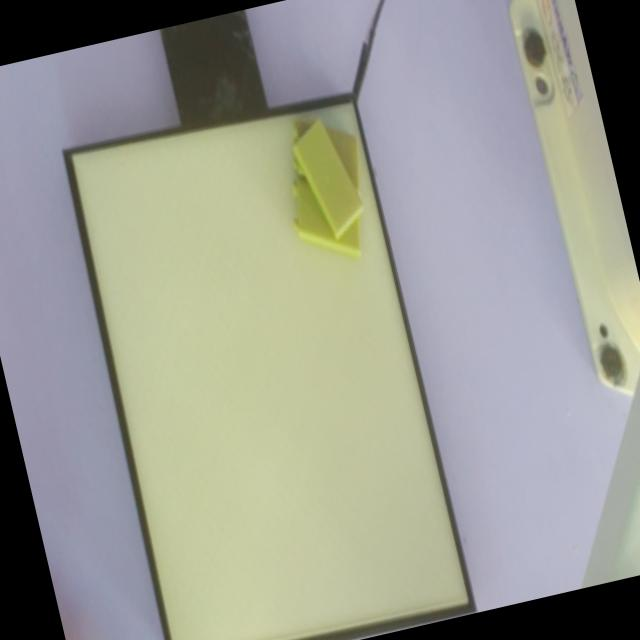bateria: (292, 114, 362, 237)
mesa: (62, 92, 476, 640)
